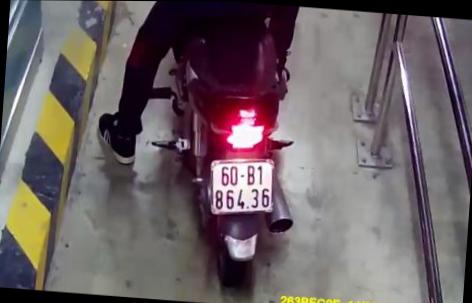LP: (206, 155, 279, 219)
